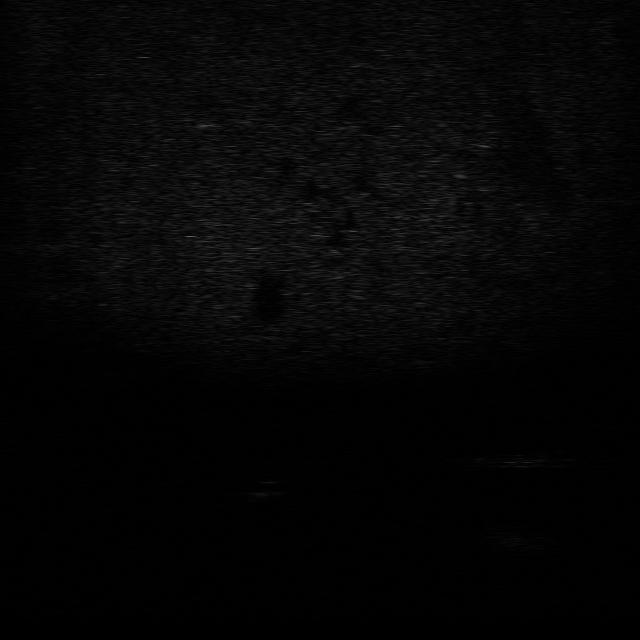ball: (244, 473, 290, 501)
circle cage: (474, 518, 560, 553)
human body: (451, 448, 581, 472)
